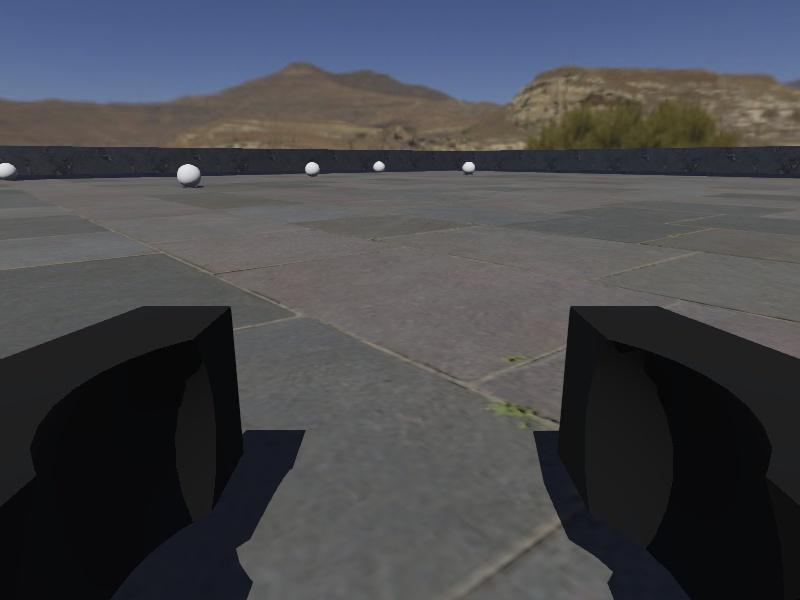white ball: (175, 162, 202, 188), (304, 161, 321, 177), (462, 160, 477, 174), (372, 160, 386, 174)
